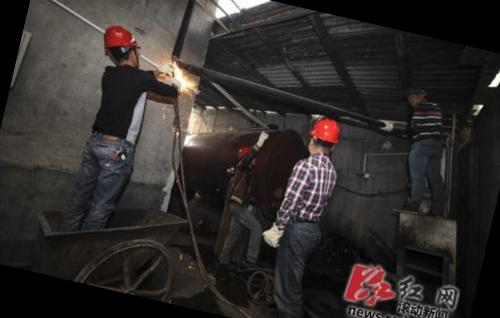Helmet: (94, 20, 150, 64), (302, 107, 346, 150), (398, 76, 433, 100), (234, 141, 256, 162)
